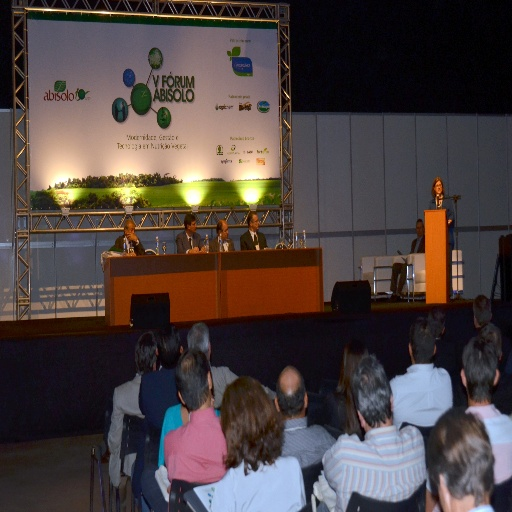hand: (190, 246, 200, 254), (125, 232, 135, 239), (200, 245, 206, 253), (127, 251, 136, 256)
